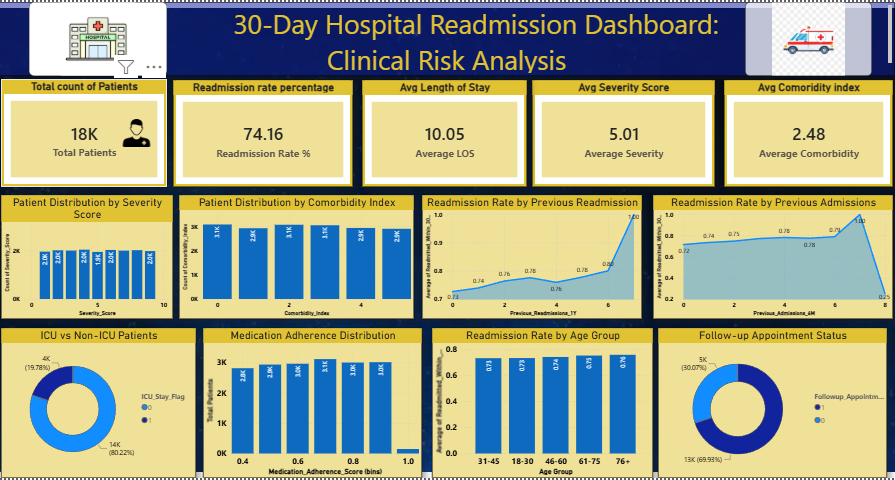

The dashboard page shown, as its layout file describes it:
{"tool":"powerbi","page":{"name":"Clinical Risk Analysis","canvas":[1800,951],"ordinal":1},"visuals":[{"type":"textbox","box":[0,0,1800,148],"z":0},{"type":"image","box":[68,0,276,148],"z":1000},{"type":"image","box":[1500,0,254,148],"z":2000},{"type":"cardVisual","title":"Total count of Patients","fields":{"Data":["Hospital_Readmission_Cleaned.Total Patients"]},"box":[12,154,332,216],"z":3000},{"type":"cardVisual","title":"Avg Severity Score","fields":{"Data":["Hospital_Readmission_Cleaned.Average Severity"]},"box":[1074,156,366,214],"z":4000},{"type":"cardVisual","title":"Avg Comoridity index","fields":{"Data":["Hospital_Readmission_Cleaned.Average Comorbidity"]},"box":[1458,156,338,214],"z":5000},{"type":"clusteredColumnChart","title":"Patient Distribution by Severity Score","fields":{"Category":["Hospital_Readmission_Cleaned.Severity_Score"],"Y":["CountNonNull(Hospital_Readmission_Cleaned.Severity_Score)"]},"box":[12,386,344,248],"z":6000},{"type":"clusteredColumnChart","title":"Patient Distribution by Comorbidity Index","fields":{"Category":["Hospital_Readmission_Cleaned.Comorbidity_Index"],"Y":["CountNonNull(Hospital_Readmission_Cleaned.Comorbidity_Index)"]},"box":[368,386,470,248],"z":7000},{"type":"lineChart","title":"Readmission Rate by Previous Readmission","fields":{"Category":["Hospital_Readmission_Cleaned.Previous_Readmissions_1Y"],"Y":["Avg(Hospital_Readmission_Cleaned.Readmitted_Within_30_Days)"]},"box":[854,386,440,248],"z":8000},{"type":"lineChart","title":"Readmission Rate by Previous Admissions","fields":{"Category":["Hospital_Readmission_Cleaned.Previous_Admissions_6M"],"Y":["Avg(Hospital_Readmission_Cleaned.Readmitted_Within_30_Days)"]},"box":[1316,386,480,248],"z":9000},{"type":"cardVisual","title":"Readmission rate percentage","fields":{"Data":["Hospital_Readmission_Cleaned.Readmission Rate %"]},"box":[356,156,360,214],"z":10000},{"type":"cardVisual","title":"Avg Length of Stay","fields":{"Data":["Hospital_Readmission_Cleaned.Average LOS"]},"box":[734,156,330,214],"z":11000},{"type":"donutChart","title":"ICU vs Non-ICU Patients","fields":{"Category":["Hospital_Readmission_Cleaned.ICU_Stay_Flag"],"Y":["Hospital_Readmission_Cleaned.Total Patients"]},"box":[12,652,390,300],"z":12000},{"type":"clusteredColumnChart","title":"Medication Adherence Distribution","fields":{"Category":["Hospital_Readmission_Cleaned.Medication_Adherence_Score (bins)"],"Y":["Hospital_Readmission_Cleaned.Total Patients"]},"box":[416,652,438,300],"z":13000},{"type":"clusteredColumnChart","title":"Readmission Rate by Age Group","fields":{"Category":["Hospital_Readmission_Cleaned.Age Group"],"Y":["Avg(Hospital_Readmission_Cleaned.Readmitted_Within_30_Days)"]},"box":[874,652,442,300],"z":14000},{"type":"donutChart","title":"Follow-up Appointment Status","fields":{"Category":["Hospital_Readmission_Cleaned.Followup_Appointment_Scheduled"],"Y":["Hospital_Readmission_Cleaned.Total Patients"]},"box":[1326,652,458,300],"z":15000},{"type":"image","box":[248,234,70,56],"z":16000}]}

Visuals, with their boxes in screenshot pixels (x1, y1, x2, y2), scaled from the page's 1800x951 canvas onto the 895x480 screenshot:
textbox: 0,0,894,75
image: 34,0,171,75
image: 746,0,872,75
"Total count of Patients" cardVisual: 6,78,171,187
"Avg Severity Score" cardVisual: 534,79,716,187
"Avg Comoridity index" cardVisual: 725,79,893,187
"Patient Distribution by Severity Score" clusteredColumnChart: 6,195,177,320
"Patient Distribution by Comorbidity Index" clusteredColumnChart: 183,195,417,320
"Readmission Rate by Previous Readmission" lineChart: 425,195,643,320
"Readmission Rate by Previous Admissions" lineChart: 654,195,893,320
"Readmission rate percentage" cardVisual: 177,79,356,187
"Avg Length of Stay" cardVisual: 365,79,529,187
"ICU vs Non-ICU Patients" donutChart: 6,329,200,479
"Medication Adherence Distribution" clusteredColumnChart: 207,329,425,479
"Readmission Rate by Age Group" clusteredColumnChart: 435,329,654,479
"Follow-up Appointment Status" donutChart: 659,329,887,479
image: 123,118,158,146
